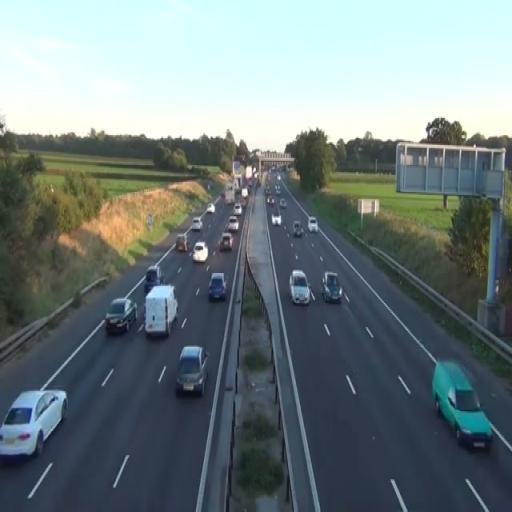Car: (431, 358, 493, 452), (0, 388, 69, 462), (175, 344, 210, 397), (104, 296, 138, 334), (289, 270, 311, 305), (321, 272, 342, 304), (208, 272, 227, 302), (192, 241, 209, 262), (220, 231, 234, 251), (293, 220, 304, 238), (228, 216, 239, 232), (272, 213, 282, 226)
Truck: (431, 358, 493, 452), (144, 284, 178, 339)
